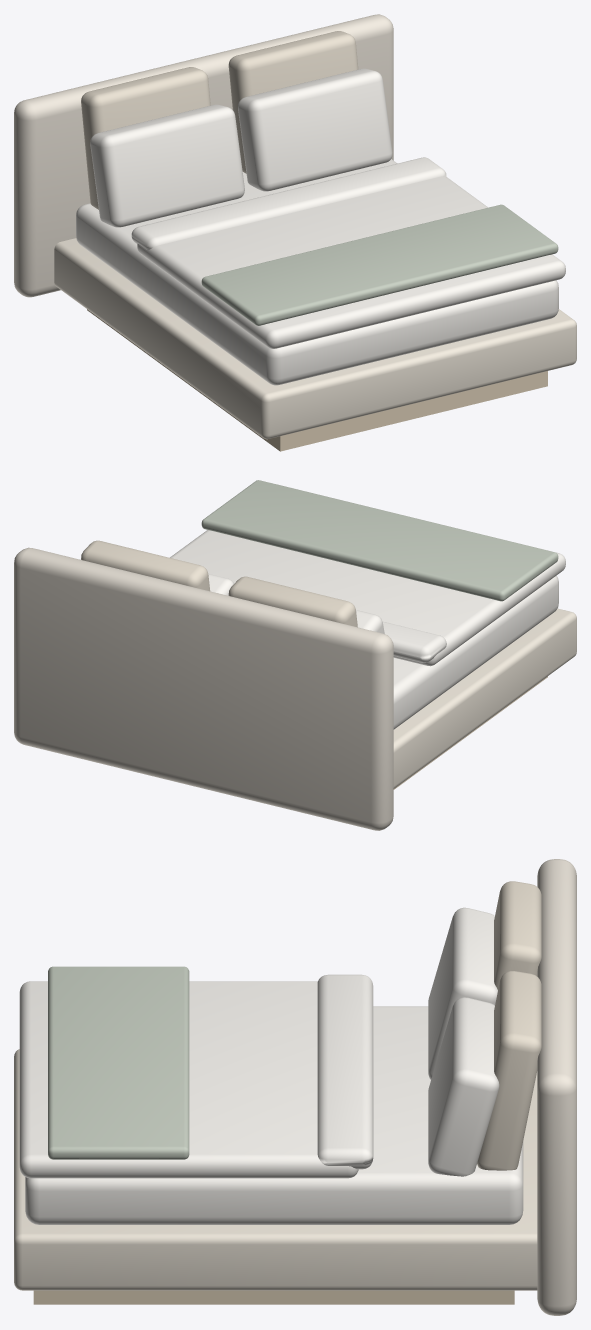
File: mo_bed_double.glb
The picture shows the model from 3 angles, top to bottom: view 1: azimuth 30°, elevation 25°; view 2: azimuth 150°, elevation 25°; view 3: azimuth 270°, elevation 25°; orthographic projection. The views are drawn at different scales.
Visible parts, largest first — view 1: base, duvet, mattress, throw, headboard, pillow0, pillow1, fold, euro0, euro1, plinth; view 2: headboard, throw, duvet, base, mattress, euro0, euro1, fold, pillow0; view 3: base, duvet, mattress, throw, headboard, fold, pillow1, euro1, plinth, pillow0, euro0.
Boxes of the visible parts, left/top/right/bottom form: base: left=54, top=238, right=576, bottom=439; duvet: left=137, top=176, right=565, bottom=348; mattress: left=76, top=159, right=558, bottom=385; throw: left=201, top=204, right=558, bottom=325; headboard: left=14, top=14, right=393, bottom=297; pillow0: left=90, top=104, right=244, bottom=227; pillow1: left=238, top=68, right=392, bottom=191; fold: left=131, top=157, right=446, bottom=249; euro0: left=81, top=67, right=210, bottom=209; euro1: left=228, top=31, right=358, bottom=173; plinth: left=87, top=309, right=547, bottom=451; headboard: left=14, top=547, right=393, bottom=830; throw: left=201, top=480, right=558, bottom=601; duvet: left=170, top=484, right=565, bottom=666; base: left=393, top=608, right=576, bottom=788; mattress: left=393, top=575, right=558, bottom=729; euro0: left=228, top=576, right=357, bottom=627; euro1: left=81, top=540, right=210, bottom=591; fold: left=382, top=621, right=446, bottom=662; pillow0: left=356, top=610, right=384, bottom=633; base: left=14, top=1049, right=537, bottom=1290; duvet: left=19, top=981, right=358, bottom=1178; mattress: left=25, top=1006, right=523, bottom=1224; throw: left=48, top=966, right=189, bottom=1159; headboard: left=537, top=859, right=576, bottom=1315; fold: left=317, top=974, right=373, bottom=1169; pillow1: left=428, top=997, right=499, bottom=1176; euro1: left=477, top=971, right=541, bottom=1170; plinth: left=33, top=1290, right=514, bottom=1304; pillow0: left=428, top=907, right=497, bottom=1079; euro0: left=494, top=881, right=541, bottom=989.
Bounding box in the file's own units: 1.9 × 1.04 × 1.99.
